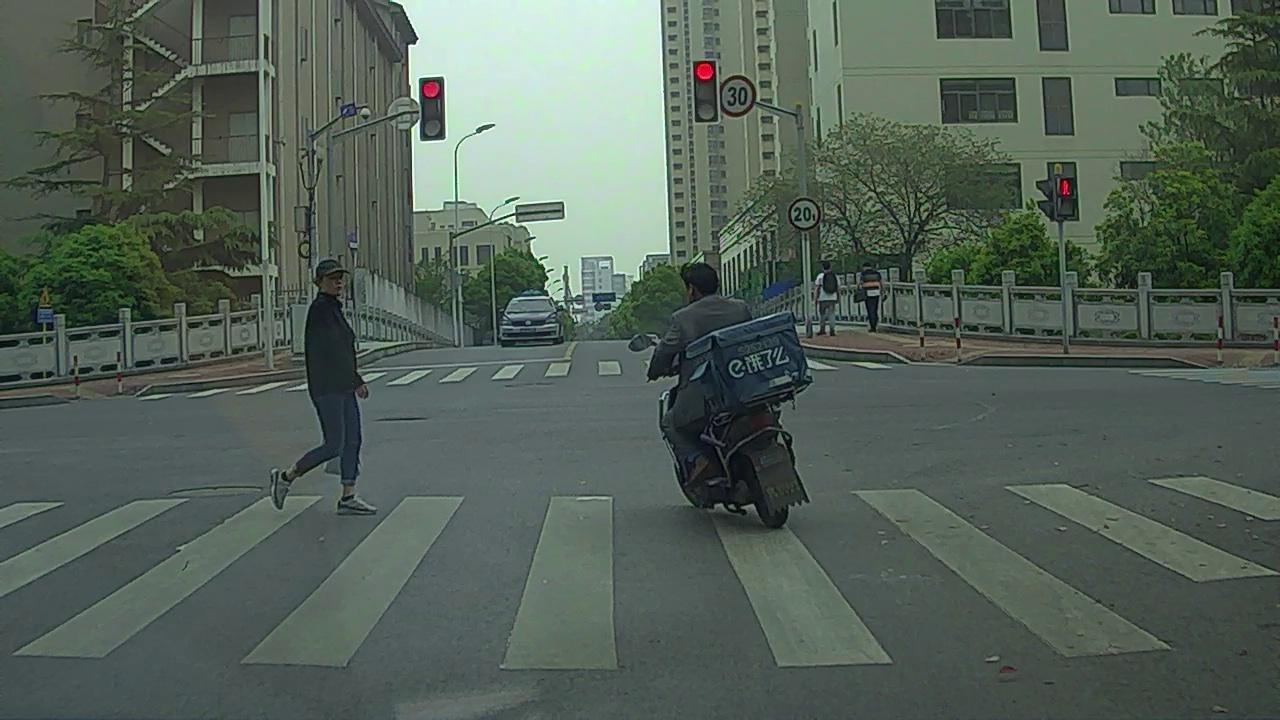traffic_light: (424, 80, 446, 138), (697, 66, 719, 120)
